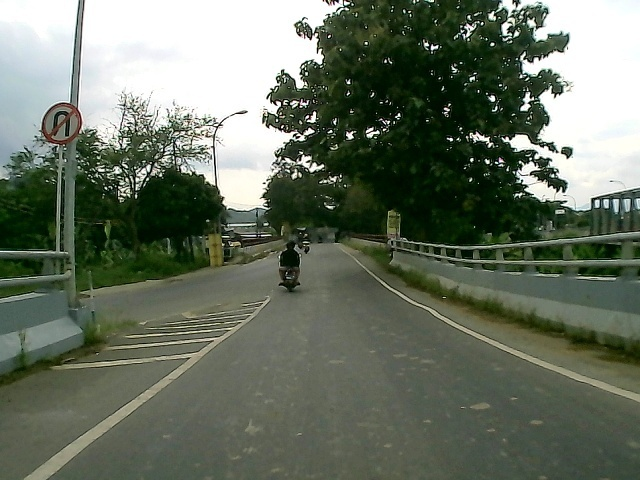Dilarang berbalik arah: (39, 101, 82, 144)
